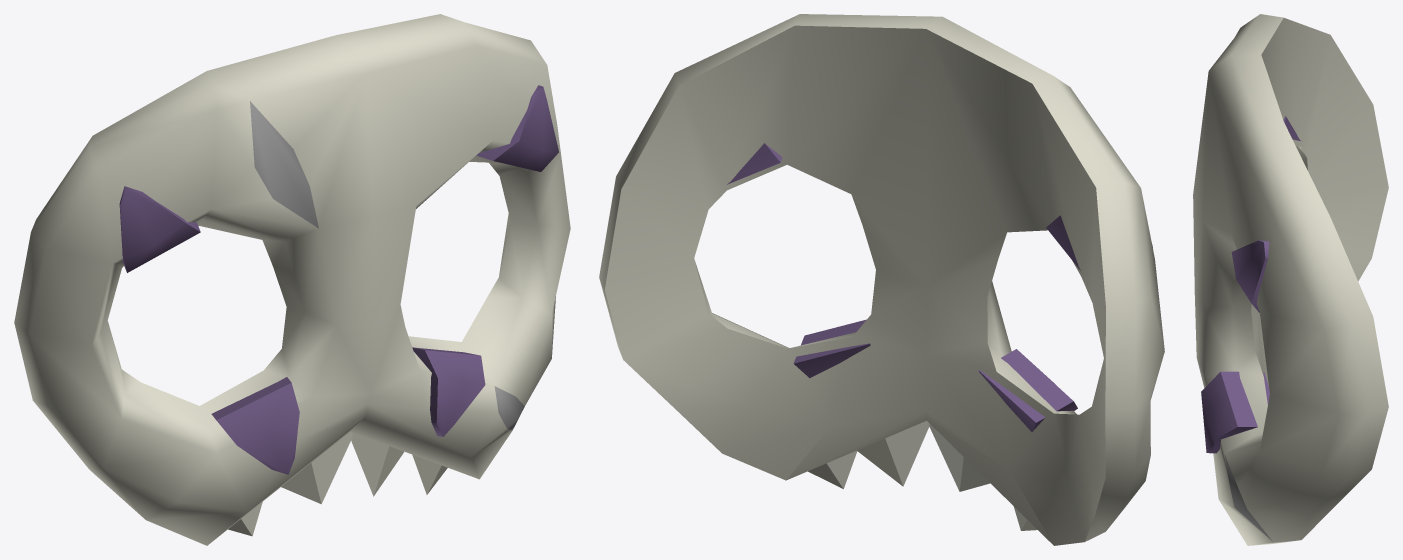
Rendered from Mask_3.fbx.
The picture shows the model from 3 angles, left to right: view 1: azimuth 30°, elevation 25°; view 2: azimuth 150°, elevation 25°; view 3: azimuth 270°, elevation 25°; orthographic projection. The views are drawn at different scales.
Parts seen in each view (by area): view 1: Mask_3; view 2: Mask_3; view 3: Mask_3.
Part boxes in pixels (box(x1,y1,x2,y2)): Mask_3: box(14, 14, 570, 545); Mask_3: box(599, 14, 1164, 545); Mask_3: box(1193, 14, 1388, 545).
Bounding box in the file's own units: 52.12 × 45.15 × 18.4.
